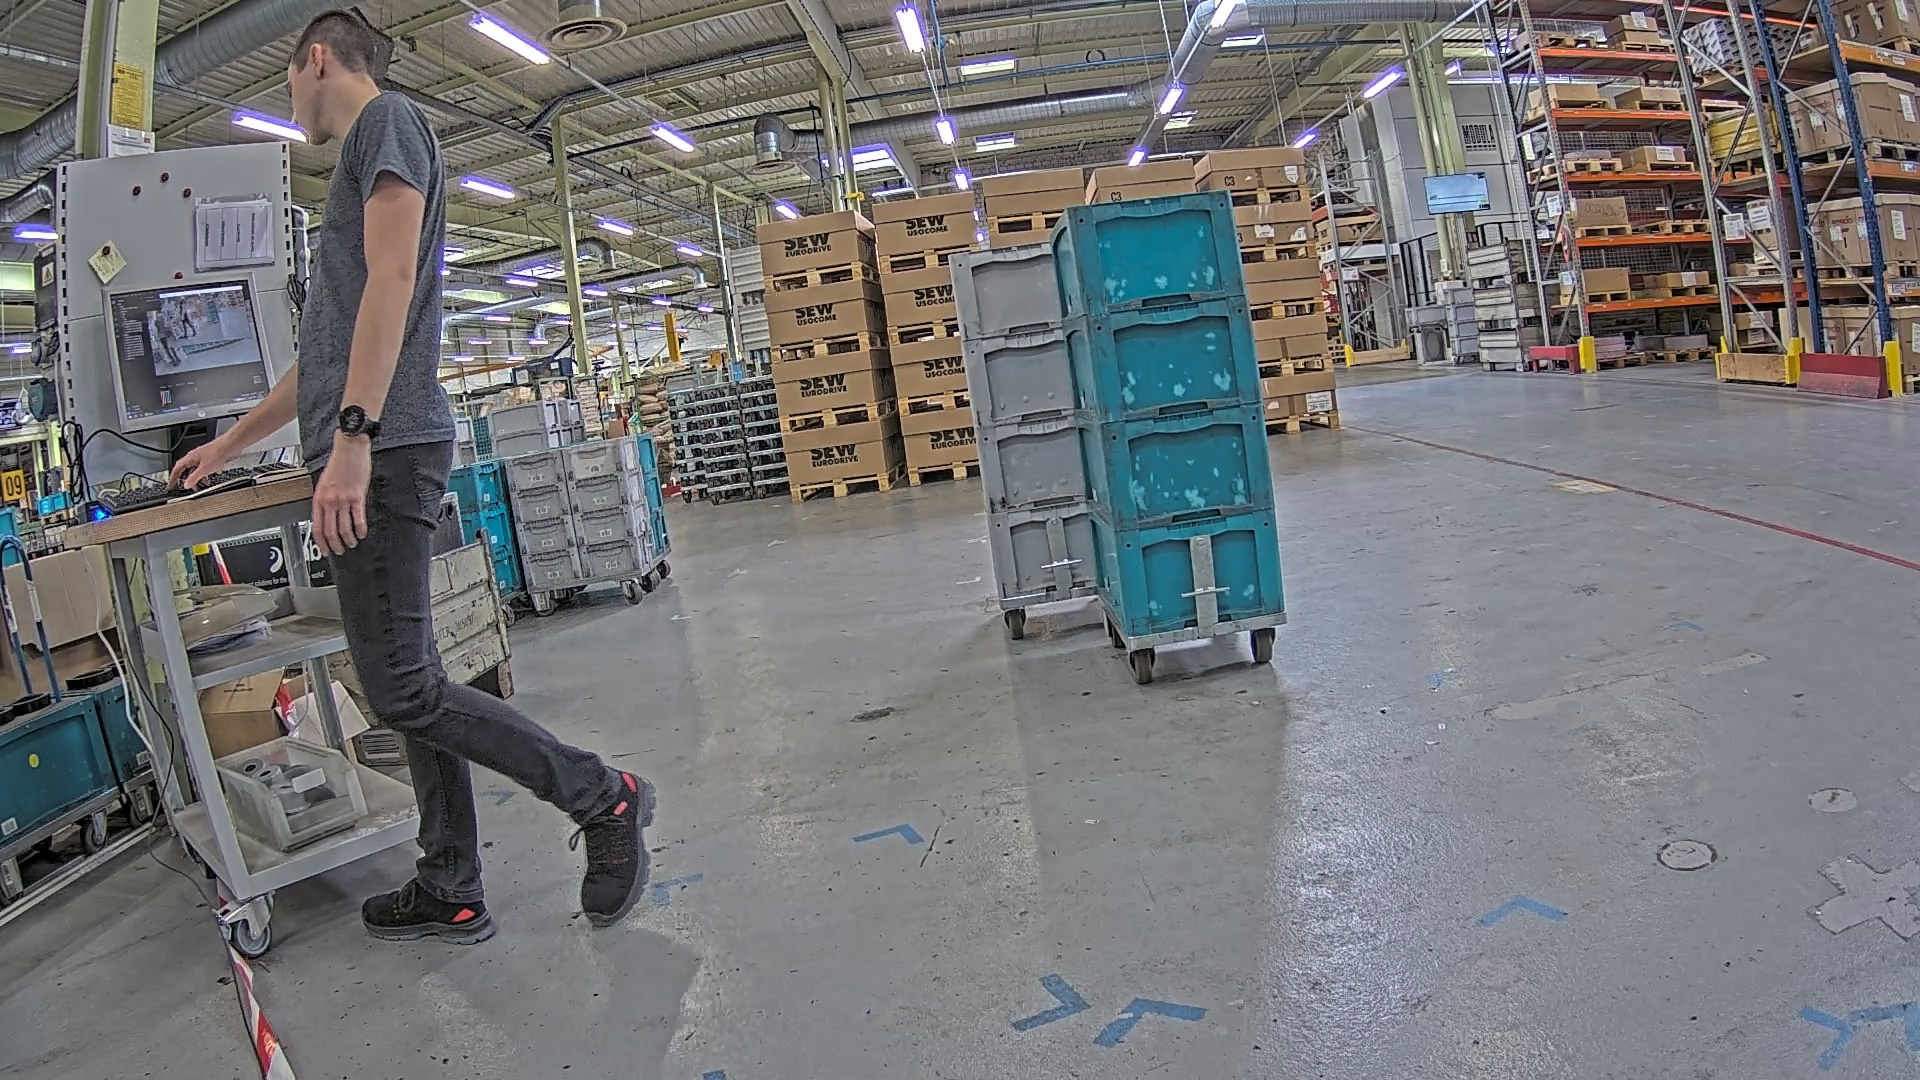4G: (945, 244, 1106, 604)
B4: (1062, 187, 1284, 638)
